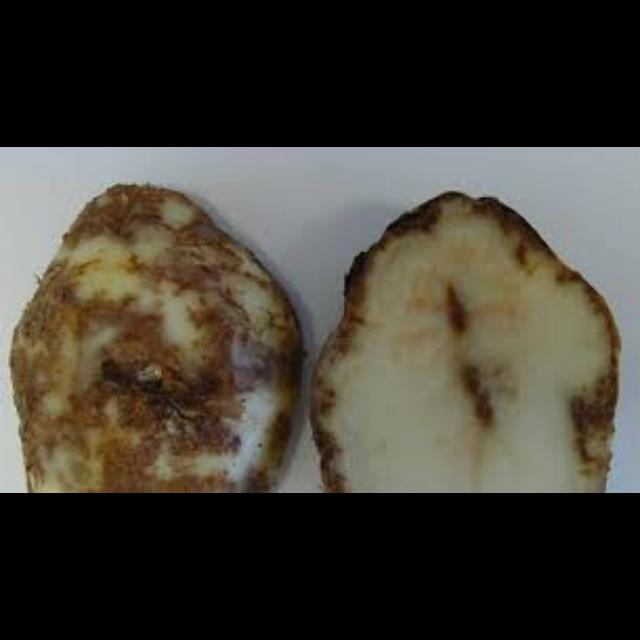Diseased-fungal potato: (328, 172, 620, 490), (21, 177, 306, 487)
